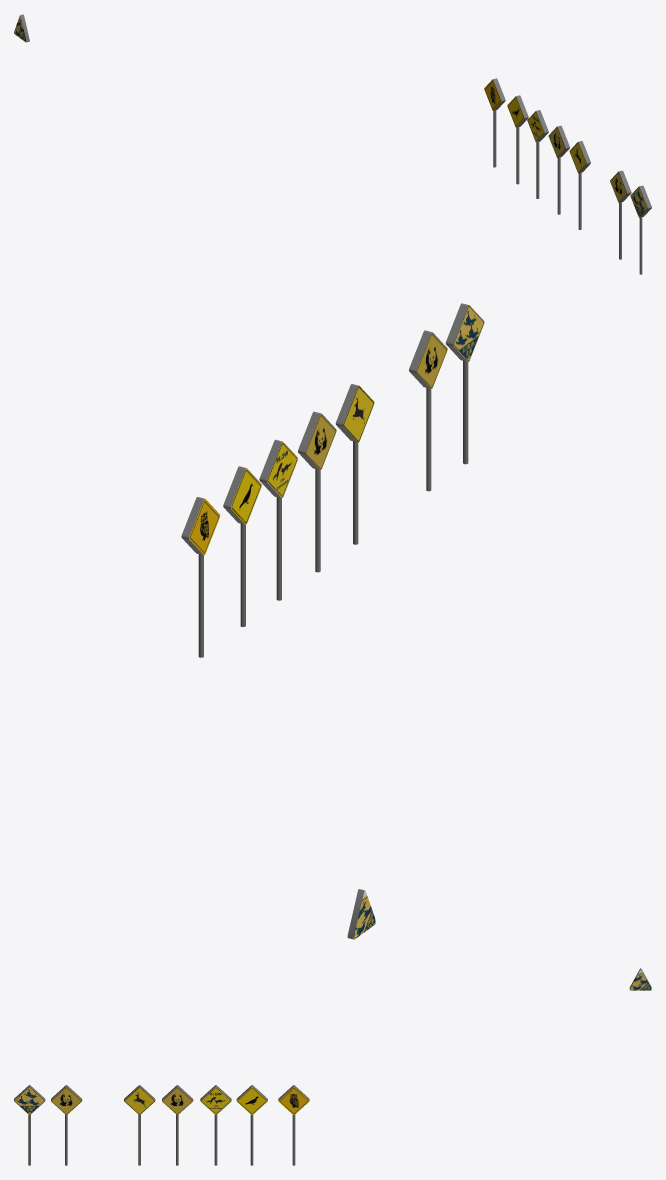
Rendered from Sign1 1.fbx.
3 views of the same model, one above another, from view 1: azimuth 30°, elevation 25°; view 2: azimuth 150°, elevation 25°; view 3: azimuth 270°, elevation 25° (orthographic). The views are drawn at different scales.
Visible parts, largest first — view 1: Plane.005, Plane.006, Plane.003, Plane.004, Plane.007, Plane.001, Plane.002; view 2: Plane.003, Plane.004, Plane.006, Plane.001, Plane.002, Plane.005, Plane.007; view 3: Plane.004, Plane.006, Plane.005, Plane.003, Plane.001, Plane.002, Plane.007, Plane.
Boxes of the visible parts, <box> form: Plane.005: <box>507,95,528,184</box>; Plane.006: <box>484,78,505,167</box>; Plane.003: <box>569,141,590,229</box>; Plane.004: <box>527,110,548,198</box>; Plane.007: <box>548,125,569,214</box>; Plane.001: <box>630,185,651,274</box>; Plane.002: <box>610,170,631,259</box>; Plane.003: <box>335,384,374,544</box>; Plane.004: <box>259,439,298,600</box>; Plane.006: <box>181,497,220,657</box>; Plane.001: <box>445,303,484,464</box>; Plane.002: <box>409,330,447,491</box>; Plane.005: <box>223,466,261,626</box>; Plane.007: <box>298,411,336,572</box>; Plane.004: <box>200,1085,231,1165</box>; Plane.006: <box>278,1085,309,1165</box>; Plane.005: <box>236,1085,267,1165</box>; Plane.003: <box>124,1085,155,1165</box>; Plane.001: <box>14,1085,45,1165</box>; Plane.002: <box>51,1085,82,1165</box>; Plane.007: <box>162,1085,193,1165</box>; Plane: <box>629,968,651,990</box>.
Size of the model in its own units: 2611 by 770 by 5606.
